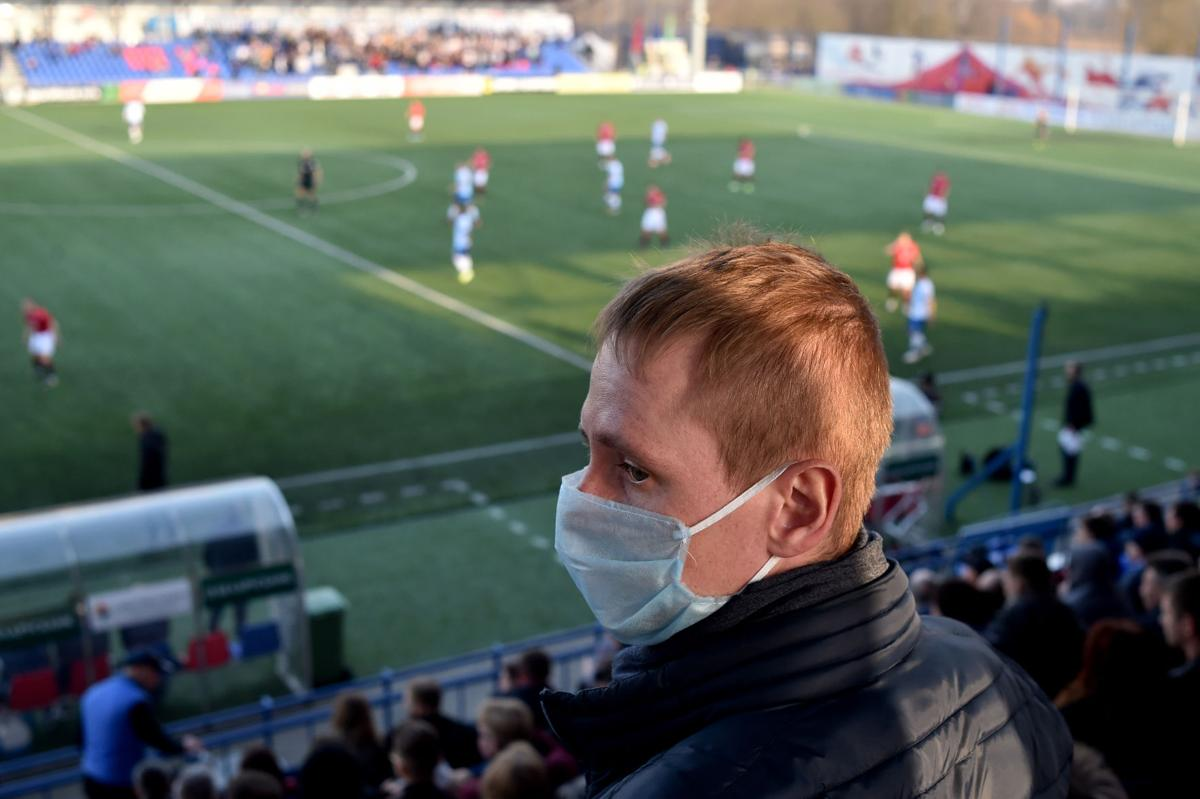with_mask: (565, 405, 742, 628)
